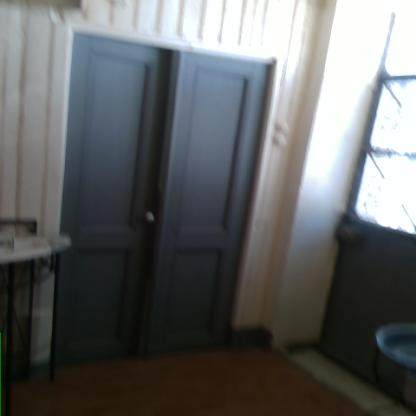closed: (46, 29, 294, 372)
